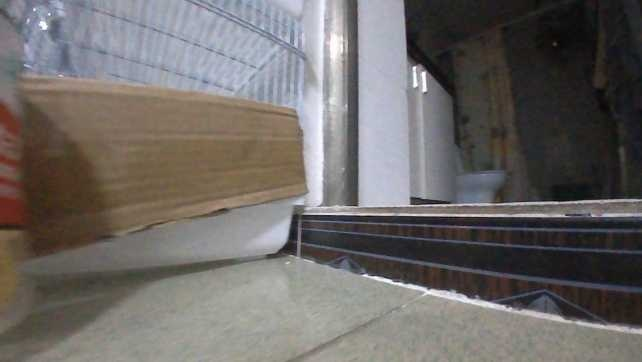door_sill: (276, 196, 642, 332)
toilet: (451, 142, 510, 204)
